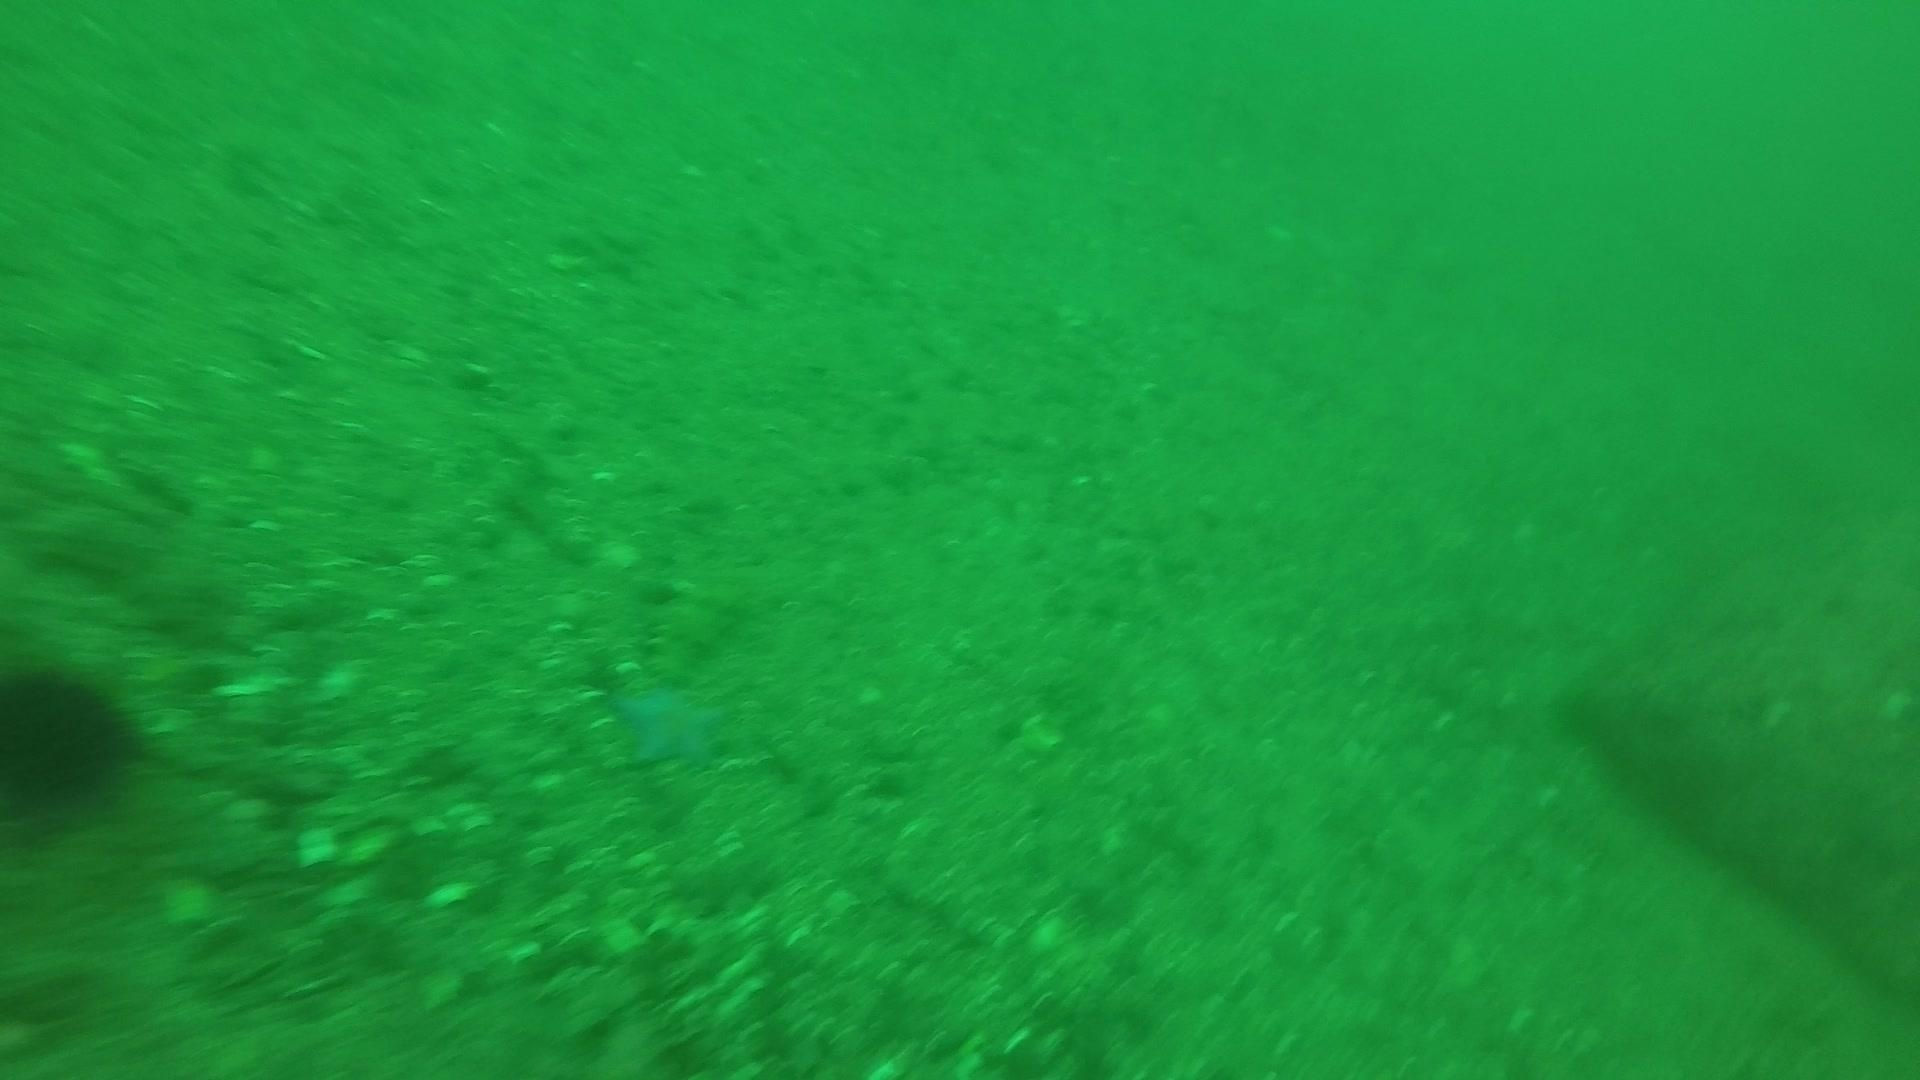echinus: (0, 653, 148, 818)
starfish: (603, 671, 735, 775)
